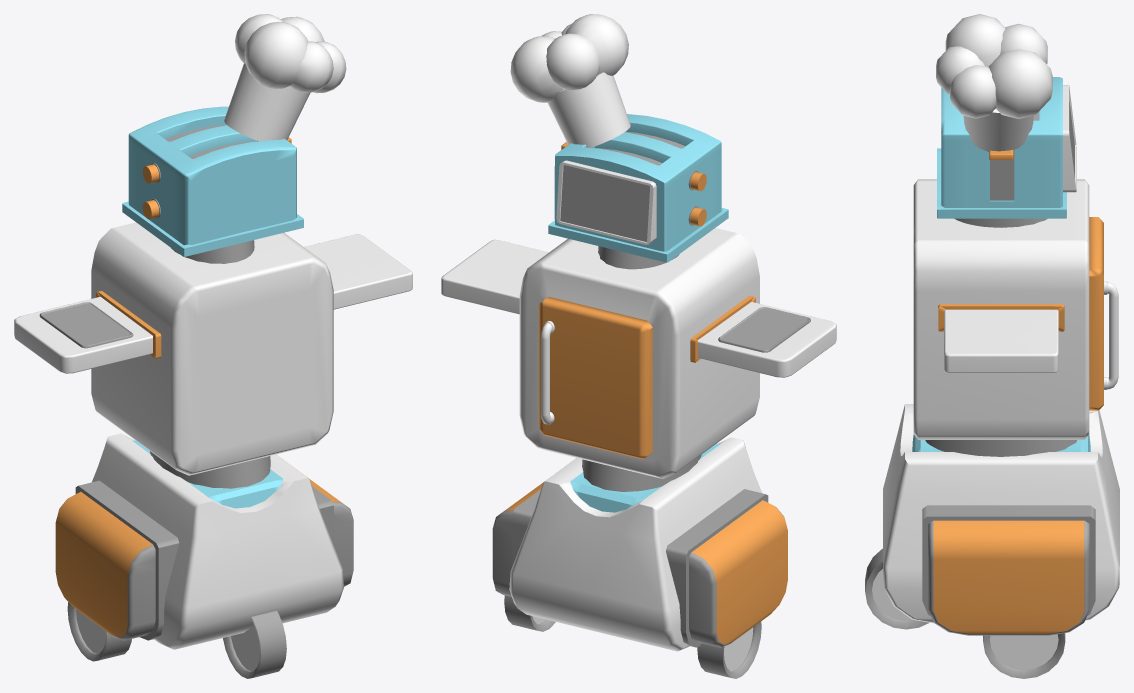
File: SM_Robotcuisine.fbx
3 views of the same model, side by side, from view 1: azimuth 30°, elevation 25°; view 2: azimuth 150°, elevation 25°; view 3: azimuth 270°, elevation 25° (orthographic). The views are drawn at different scales.
Visible parts, largest first — view 1: SM_Robotcuisine; view 2: SM_Robotcuisine; view 3: SM_Robotcuisine.
Boxes of the visible parts, x1,y1,x2,y2 form: SM_Robotcuisine: (14,14,412,678); SM_Robotcuisine: (441,14,836,678); SM_Robotcuisine: (865,14,1119,678).
Bounding box in the file's own units: 394 × 653 × 237.
